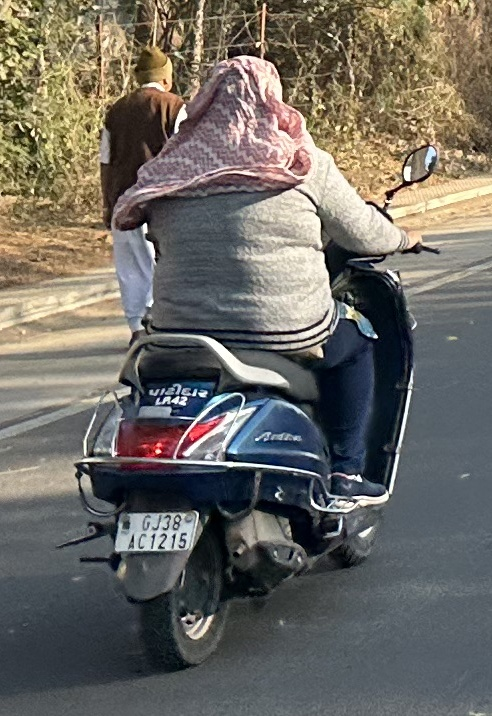BikeWithRider: (47, 41, 450, 678)
NoHelmet: (194, 48, 295, 130)
